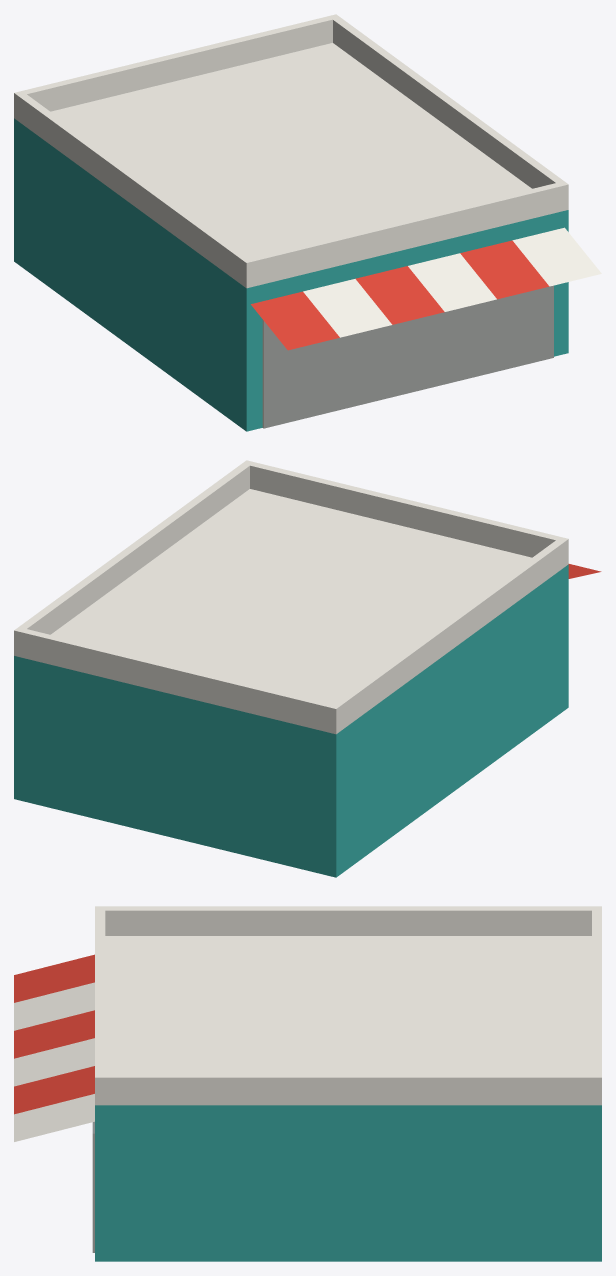
The model's file is bld_bh_shop_a.glb.
3 renders of one model, top to bottom at view 1: azimuth 30°, elevation 25°; view 2: azimuth 150°, elevation 25°; view 3: azimuth 270°, elevation 25°, orthographic. The views are drawn at different scales.
Parts seen in each view (by area): view 1: bld_bh_shop_a; view 2: bld_bh_shop_a; view 3: bld_bh_shop_a.
Part boxes in pixels (x1,y1,x2,y2): bld_bh_shop_a: (14,14,601,431); bld_bh_shop_a: (14,460,601,877); bld_bh_shop_a: (14,906,601,1261).
Size of what is drawn, in the model's own units: 8 by 4 by 11.6.
